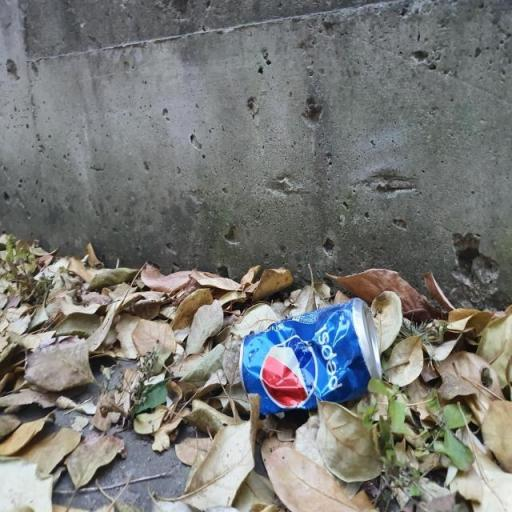metal: (218, 290, 394, 452)
